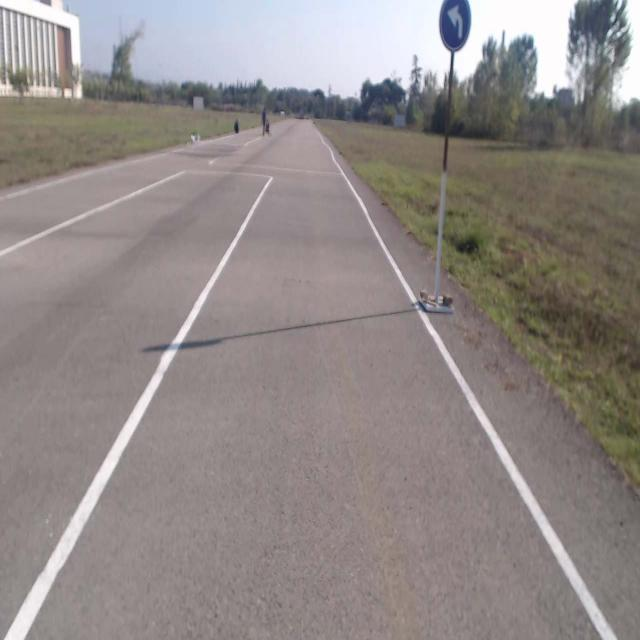sol: (439, 1, 473, 51)
